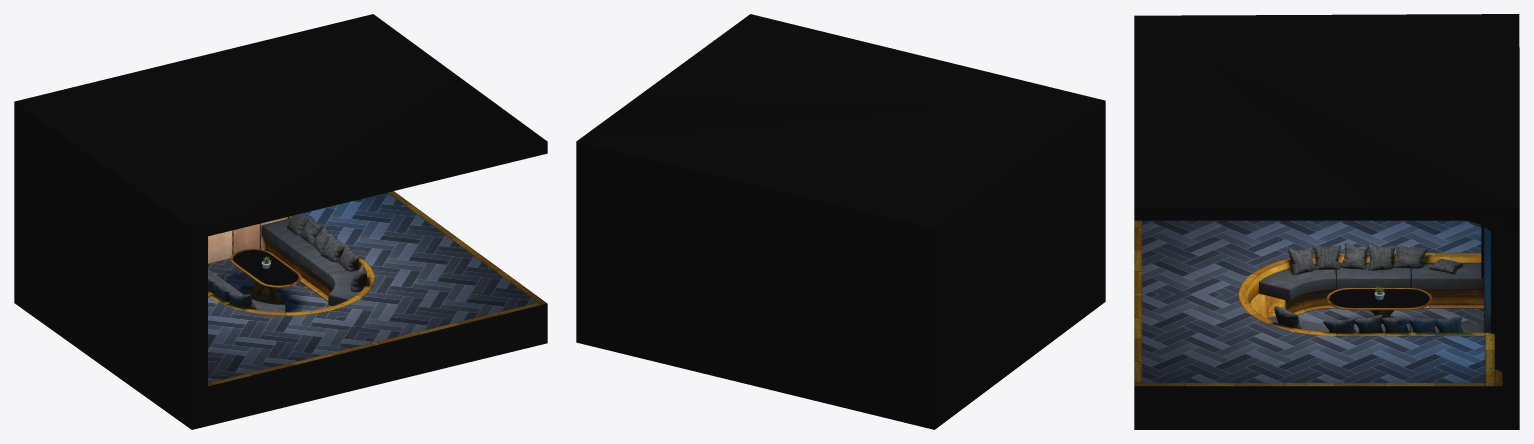
Rendered from night_meeting.glb.
The picture shows the model from 3 angles, left to right: view 1: azimuth 30°, elevation 25°; view 2: azimuth 150°, elevation 25°; view 3: azimuth 270°, elevation 25°; orthographic projection. The views are drawn at different scales.
Parts seen in each view (by area): view 1: noir_001-material, salon-material; view 2: noir_001-material; view 3: noir_001-material, salon-material.
Part boxes in pixels (box(x1,y1,x2,y2)): noir_001-material: box(14, 14, 547, 429); salon-material: box(208, 191, 546, 386); noir_001-material: box(576, 14, 1105, 429); noir_001-material: box(1134, 14, 1519, 429); salon-material: box(1134, 220, 1502, 386).
Bounding box in the file's own units: 10.08 × 5.41 × 8.49.
Materials: 5 (2 with a texture image).
